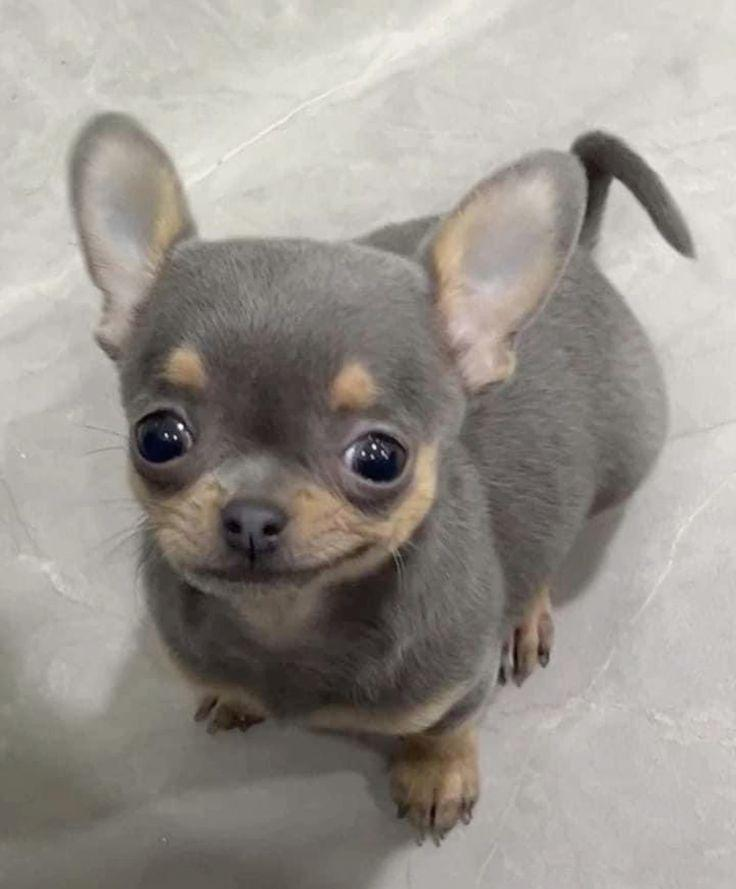puppy-dog: (60, 104, 703, 847)
